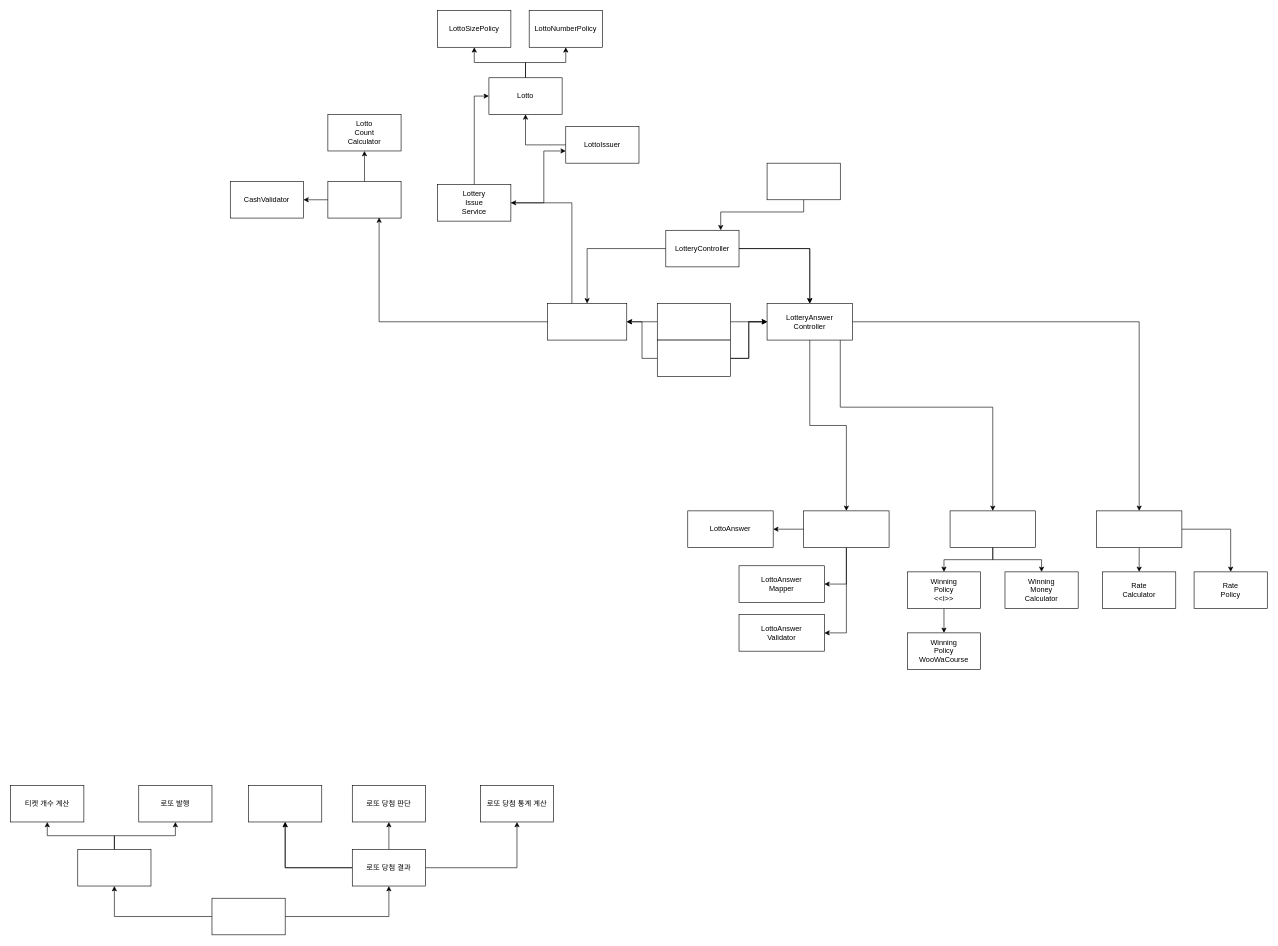
Image size: 1278x946. Some labels were removed from this diagram. The centre of each missing label's shape, as x and y in pixels:
InputView: the point at 693,321
Lottery AnswerCheck Service: the point at 992,528
Lottery AnswerNumber Service: the point at 846,528
Lottery Count Service: the point at 364,199
Lottery Rate Service: the point at 1139,528
LotteryPurchase Controller: the point at 587,321
Lottos: the point at 803,181
OutputView: the point at 693,358
로또 게임: the point at 248,916
로또 구매: the point at 114,867
로또 당첨번호 저장: the point at 285,803
